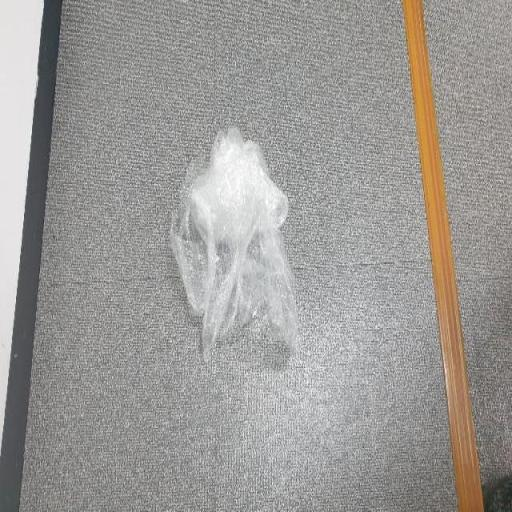plastic-bag: (166, 124, 304, 362)
